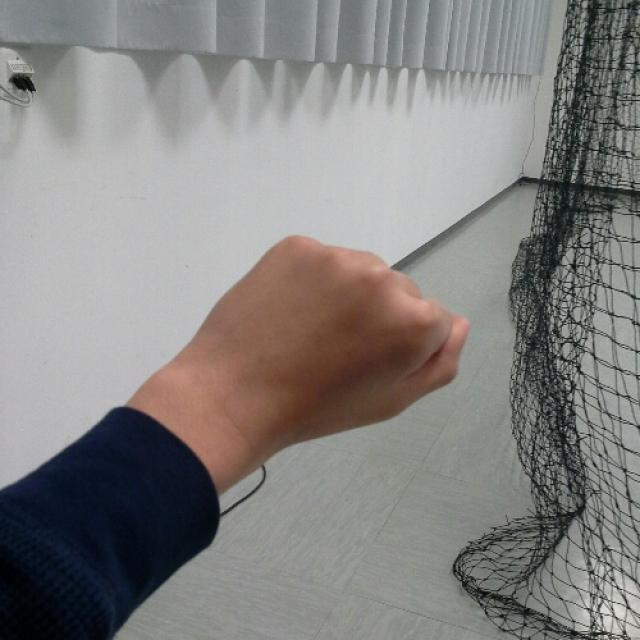rock: (205, 234, 469, 442)
